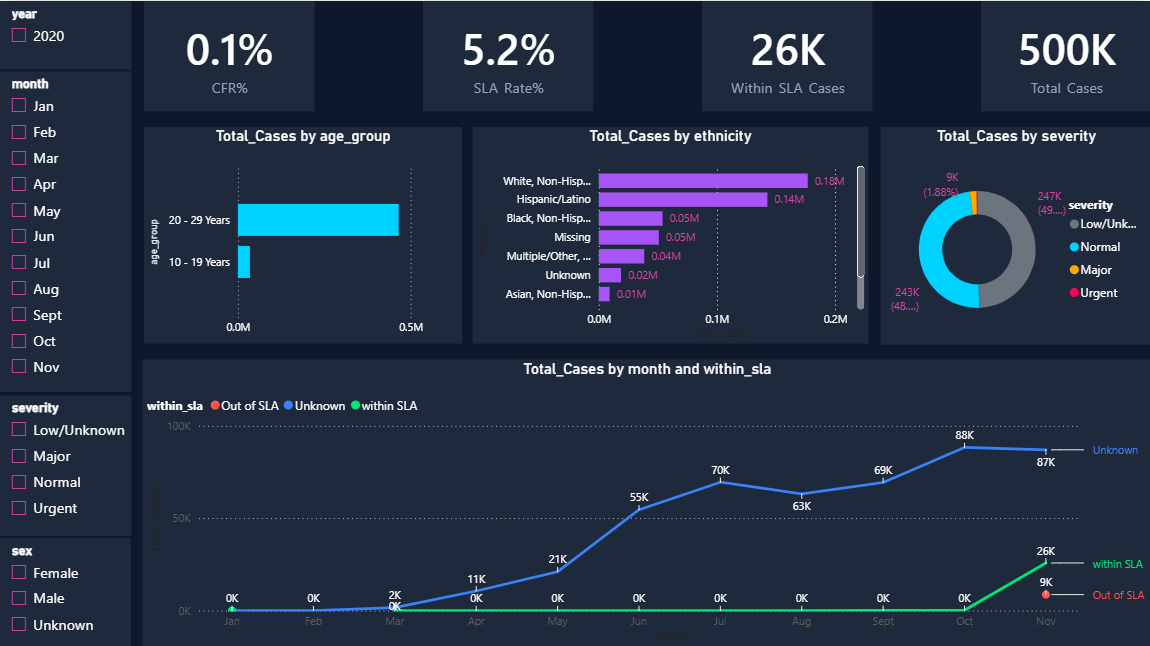

The page's visual inventory and layout, read from the dashboard file:
{"tool":"powerbi","page":{"name":"Page 1","canvas":[1280,720],"ordinal":0},"visuals":[{"type":"slicer","fields":{"Values":["covid_surveillance_cleaned_for_powerbi.month"]},"box":[0.4,79.1,146,356],"z":0,"group":"g3"},{"type":"slicer","fields":{"Values":["covid_surveillance_cleaned_for_powerbi.year"]},"box":[0.4,0,146,76],"z":1000,"group":"g3"},{"type":"slicer","fields":{"Values":["covid_surveillance_cleaned_for_powerbi.severity"]},"box":[0.4,438.1,146,156],"z":2000,"group":"g3"},{"type":"slicer","fields":{"Values":["covid_surveillance_cleaned_for_powerbi.sex"]},"box":[0.6,597.2,145.5,122.8],"z":3000,"group":"g3"},{"type":"cardVisual","fields":{"Data":["covid_surveillance_cleaned_for_powerbi.CFR%"]},"box":[160,0,189.3,122.5],"z":4000,"group":"g1"},{"type":"donutChart","fields":{"Category":["covid_surveillance_cleaned_for_powerbi.severity"],"Y":["covid_surveillance_cleaned_for_powerbi.Total_Cases"]},"box":[977.8,139.4,302.2,241.7],"z":4000,"group":"g2"},{"type":"cardVisual","fields":{"Data":["covid_surveillance_cleaned_for_powerbi.SLA_Rate%"]},"box":[470.2,0,189.3,122.5],"z":5000,"group":"g1"},{"type":"lineChart","fields":{"Category":["covid_surveillance_cleaned_for_powerbi.month"],"Series":["covid_surveillance_cleaned_for_powerbi.within_sla"],"Y":["covid_surveillance_cleaned_for_powerbi.Total_Cases"]},"box":[158,398,1122,322],"z":5000},{"type":"cardVisual","fields":{"Data":["covid_surveillance_cleaned_for_powerbi.Within_SLA_Cases"]},"box":[780.5,0,189.3,122.5],"z":6000,"group":"g1"},{"type":"clusteredBarChart","fields":{"Category":["covid_surveillance_cleaned_for_powerbi.age_group"],"Y":["covid_surveillance_cleaned_for_powerbi.Total_Cases"]},"box":[160,139.8,353.3,240.8],"z":6000,"group":"g2"},{"type":"group","id":"g1","title":"Group 2","box":[160,0,1120,122.5],"z":7000},{"type":"cardVisual","fields":{"Data":["covid_surveillance_cleaned_for_powerbi.Total_Cases"]},"box":[1090.7,0,189.3,122.5],"z":7000,"group":"g1"},{"type":"clusteredBarChart","fields":{"Category":["covid_surveillance_cleaned_for_powerbi.ethnicity"],"Y":["covid_surveillance_cleaned_for_powerbi.Total_Cases"]},"box":[525.8,139.8,440,240.8],"z":8000,"group":"g2"},{"type":"group","id":"g2","title":"Group 1","box":[160,139.4,1120,241.7],"z":8001},{"type":"group","id":"g3","title":"Group 3","box":[0.4,0,146,720],"z":8002}]}

Visuals, with their boxes in screenshot pixels (x1, y1, x2, y2), scaled from the page's 1280x720 canvas onto the 1150x646 screenshot:
slicer - covid_surveillance_cleaned_for_powerbi.month: box=[0, 71, 132, 390]
slicer - covid_surveillance_cleaned_for_powerbi.year: box=[0, 0, 132, 68]
slicer - covid_surveillance_cleaned_for_powerbi.severity: box=[0, 393, 132, 533]
slicer - covid_surveillance_cleaned_for_powerbi.sex: box=[1, 536, 131, 645]
cardVisual - covid_surveillance_cleaned_for_powerbi.CFR%: box=[144, 0, 314, 110]
donutChart - covid_surveillance_cleaned_for_powerbi.severity x covid_surveillance_cleaned_for_powerbi.Total_Cases: box=[878, 125, 1149, 342]
cardVisual - covid_surveillance_cleaned_for_powerbi.SLA_Rate%: box=[422, 0, 593, 110]
lineChart - covid_surveillance_cleaned_for_powerbi.month x covid_surveillance_cleaned_for_powerbi.within_sla: box=[142, 357, 1149, 645]
cardVisual - covid_surveillance_cleaned_for_powerbi.Within_SLA_Cases: box=[701, 0, 871, 110]
clusteredBarChart - covid_surveillance_cleaned_for_powerbi.age_group x covid_surveillance_cleaned_for_powerbi.Total_Cases: box=[144, 125, 461, 341]
"Group 2" group: box=[144, 0, 1149, 110]
cardVisual - covid_surveillance_cleaned_for_powerbi.Total_Cases: box=[980, 0, 1149, 110]
clusteredBarChart - covid_surveillance_cleaned_for_powerbi.ethnicity x covid_surveillance_cleaned_for_powerbi.Total_Cases: box=[472, 125, 868, 341]
"Group 1" group: box=[144, 125, 1149, 342]
"Group 3" group: box=[0, 0, 132, 645]
